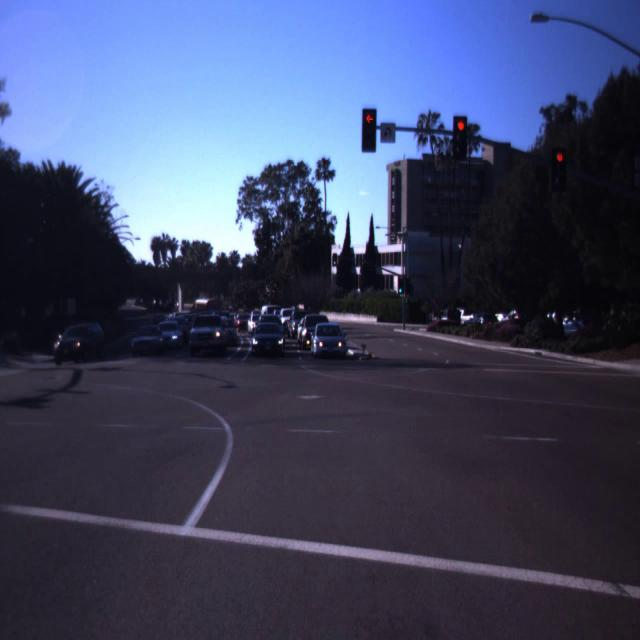stop: (459, 122, 464, 129), (558, 155, 562, 160)
stop left: (364, 113, 374, 122)
stop left traffic light: (356, 108, 382, 150)
stop traffic light: (454, 118, 469, 148), (554, 152, 566, 176)
